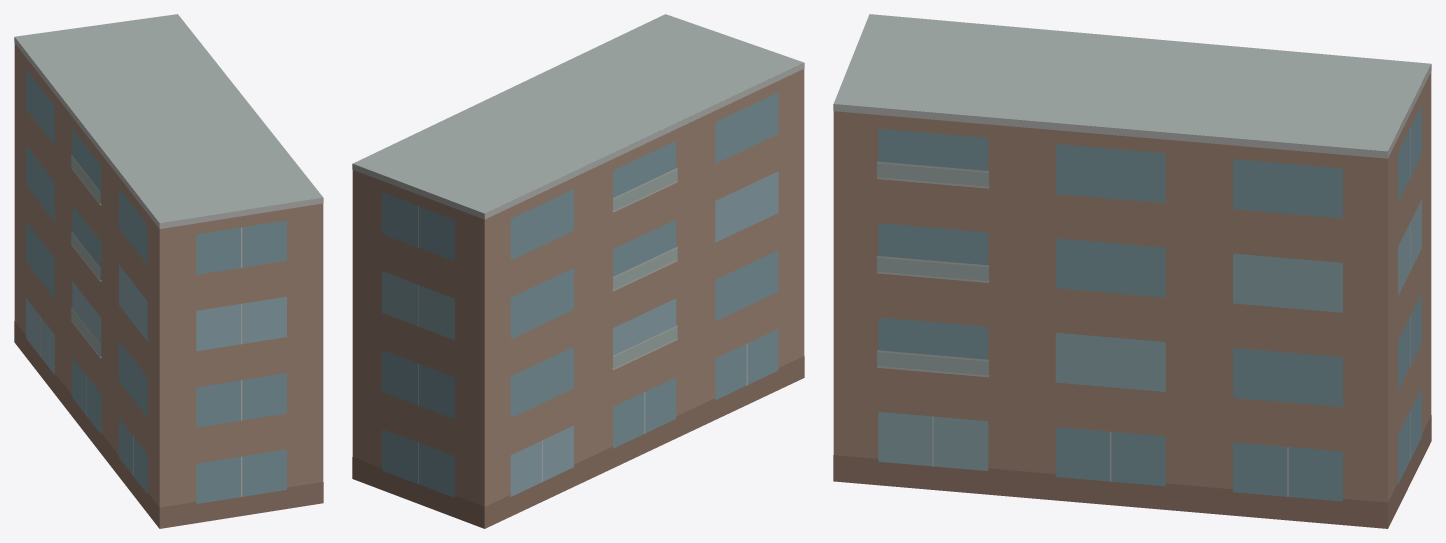
Rendered from survey-upis-32996640.glb.
The picture shows the model from 3 angles, left to right: view 1: azimuth 30°, elevation 25°; view 2: azimuth 150°, elevation 25°; view 3: azimuth 270°, elevation 25°; orthographic projection. The views are drawn at different scales.
Visible parts, largest first — view 1: survey-upis-32996640.tmp; view 2: survey-upis-32996640.tmp; view 3: survey-upis-32996640.tmp.
Boxes of the visible parts, <box> form: survey-upis-32996640.tmp: <box>14,14,323,528</box>; survey-upis-32996640.tmp: <box>352,14,804,528</box>; survey-upis-32996640.tmp: <box>833,14,1431,528</box>.
Size of the model in its own units: 10.01 by 12.8 by 18.39.
